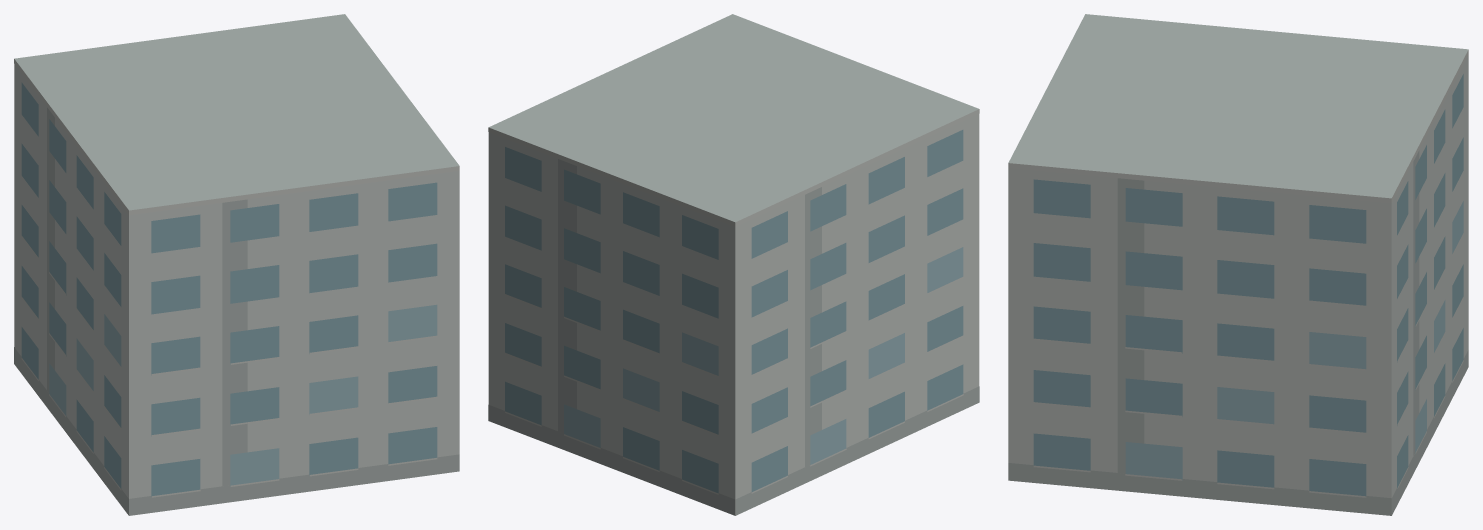
File: residential-c28126ef-8ddb-4864-9013-d1e2b67c3299.glb
3 renders of one model, left to right at view 1: azimuth 30°, elevation 25°; view 2: azimuth 150°, elevation 25°; view 3: azimuth 270°, elevation 25°, orthographic. The views are drawn at different scales.
Parts seen in each view (by area): view 1: residential-c28126ef-8ddb-4864-9013-d1e2b67c3299.tmp; view 2: residential-c28126ef-8ddb-4864-9013-d1e2b67c3299.tmp; view 3: residential-c28126ef-8ddb-4864-9013-d1e2b67c3299.tmp.
Boxes of the visible parts, x1=… form: residential-c28126ef-8ddb-4864-9013-d1e2b67c3299.tmp: x1=14, y1=14, x2=459, y2=515; residential-c28126ef-8ddb-4864-9013-d1e2b67c3299.tmp: x1=488, y1=14, x2=979, y2=515; residential-c28126ef-8ddb-4864-9013-d1e2b67c3299.tmp: x1=1008, y1=14, x2=1468, y2=515.
Bounding box in the file's own units: 19 × 15.25 × 20.05.
